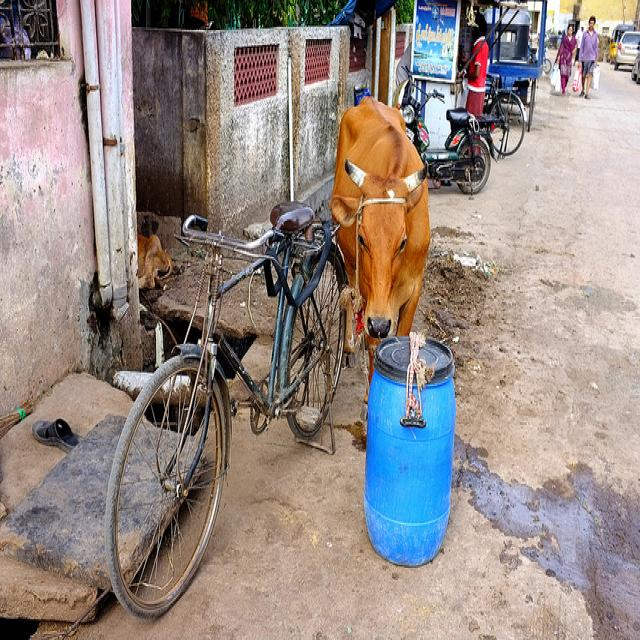motor: (395, 65, 499, 197)
